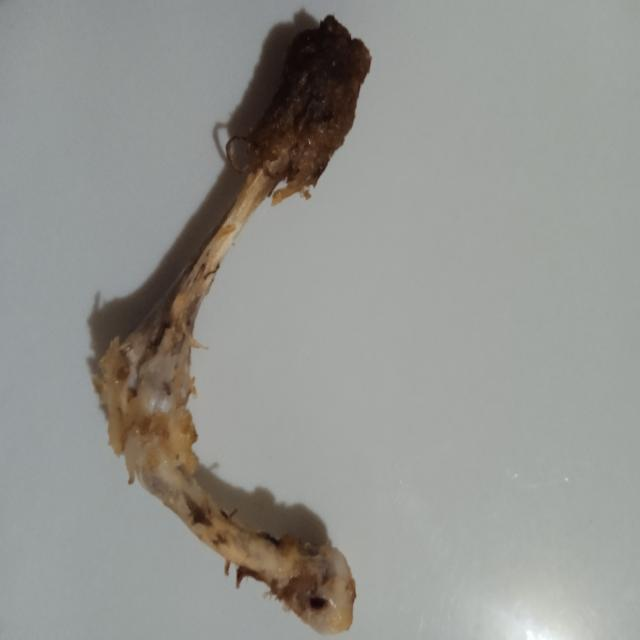bone: (82, 0, 382, 640)
